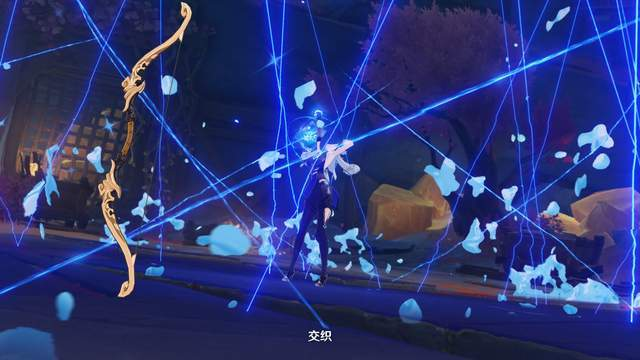夜兰: (281, 122, 356, 289)
